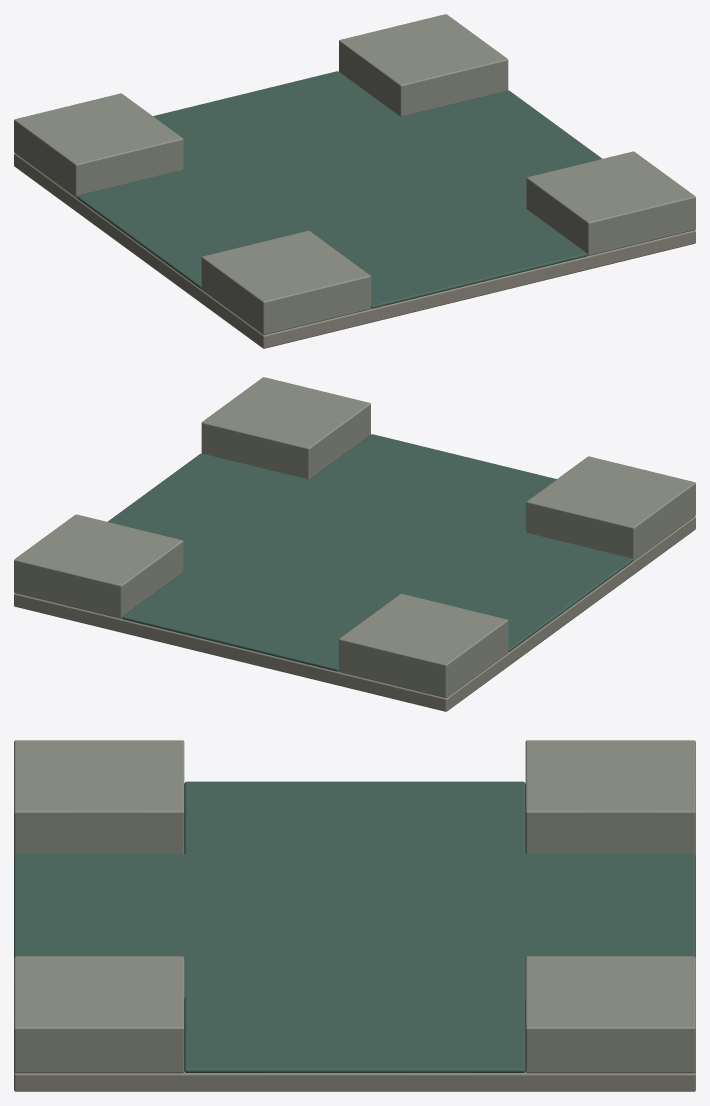
Rendered from undercity-sewers-and-thieves-den-cross-junction-f4538362__25037.glb.
The picture shows the model from 3 angles, top to bottom: view 1: azimuth 30°, elevation 25°; view 2: azimuth 150°, elevation 25°; view 3: azimuth 270°, elevation 25°; orthographic projection. The views are drawn at different scales.
Parts seen in each view (by area): view 1: cross-junction; view 2: cross-junction; view 3: cross-junction.
Boxes of the visible parts, x1,y1,x2,y2 form: cross-junction: [14, 14, 695, 348]; cross-junction: [14, 377, 695, 711]; cross-junction: [14, 740, 695, 1091].
Bounding box in the file's own units: 4 × 0.42 × 4.
